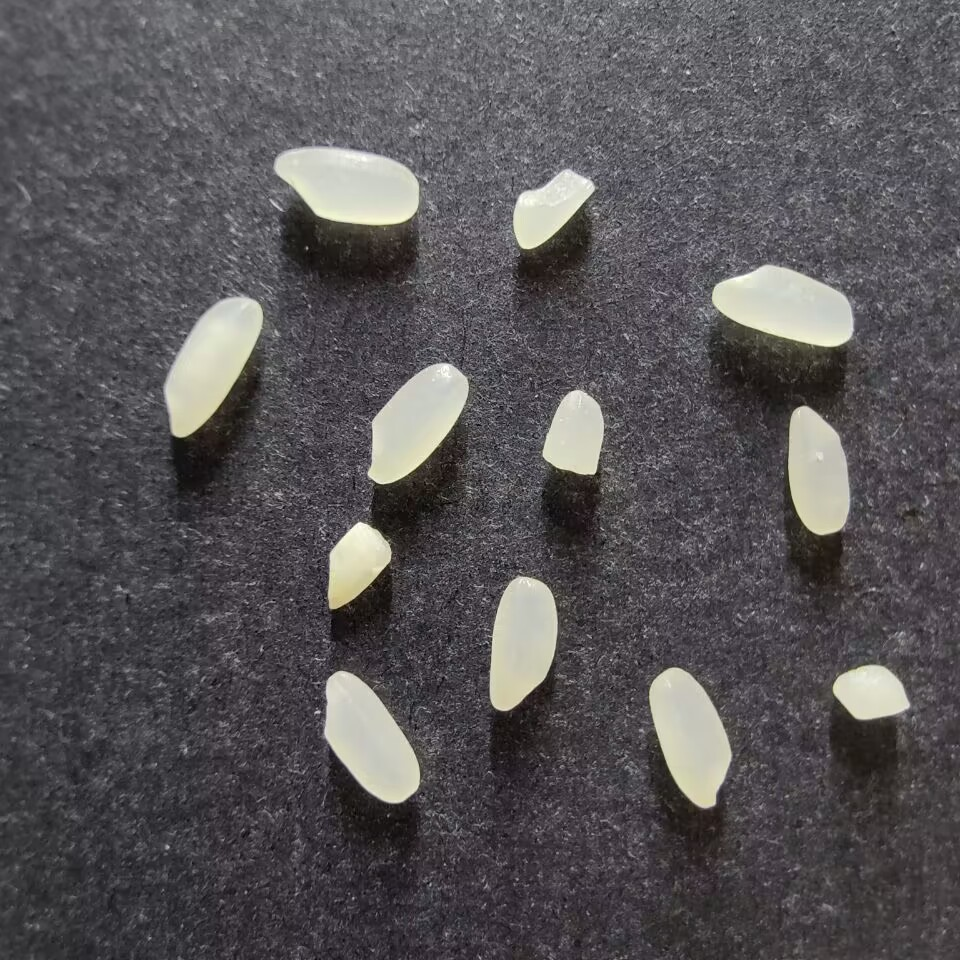broken: (512, 168, 596, 250), (326, 521, 392, 610), (541, 389, 603, 475), (831, 664, 911, 720)
rice: (162, 296, 263, 438), (322, 669, 421, 804), (367, 362, 469, 484), (648, 666, 732, 808), (711, 264, 854, 346), (273, 147, 419, 224), (488, 576, 557, 711), (787, 405, 850, 535)
